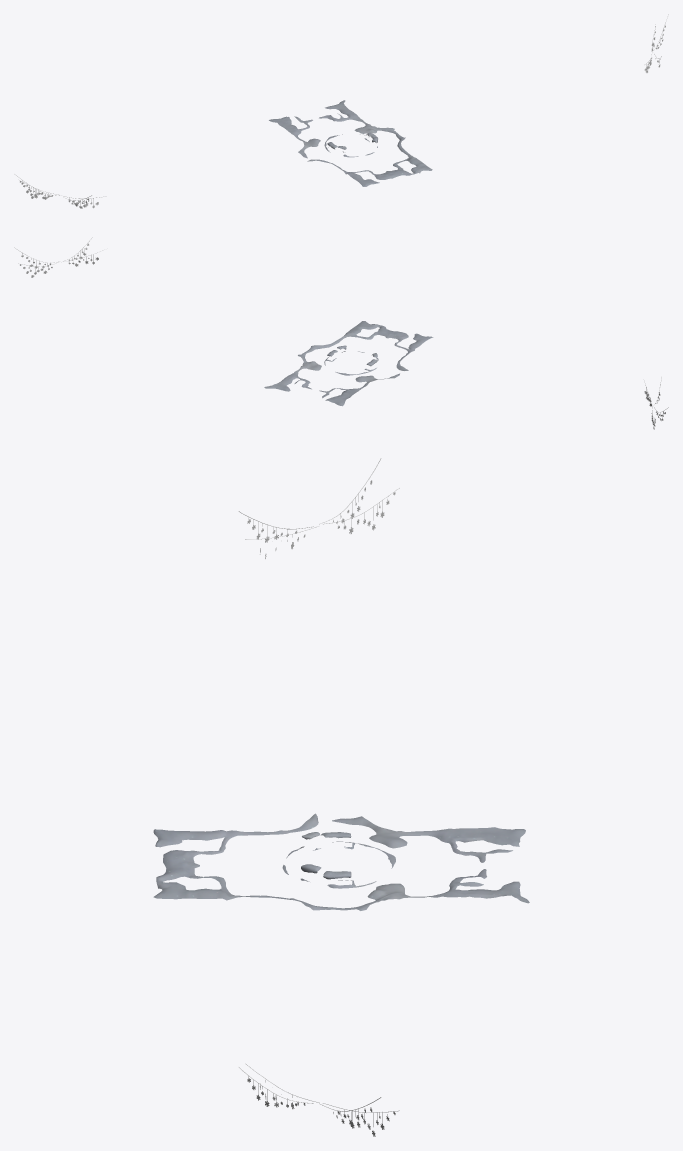
The model's file is pref_Area_Winter_center_snow_lv3.fbx.
3 renders of one model, top to bottom at view 1: azimuth 30°, elevation 25°; view 2: azimuth 150°, elevation 25°; view 3: azimuth 270°, elevation 25°, orthographic. The views are drawn at different scales.
Parts seen in each view (by area): view 1: pref_sm_beach_winter_centersnow_lv3, pref_sm_beach_winter_snowlight_lv3; view 2: pref_sm_beach_winter_centersnow_lv3, pref_sm_beach_winter_snowlight_mirror_lv3; view 3: pref_sm_beach_winter_centersnow_lv3, pref_sm_beach_winter_centersnow02_lv3.
Boxes of the visible parts, x1,y1,x2,y2 form: pref_sm_beach_winter_centersnow_lv3: [269, 100, 432, 186]; pref_sm_beach_winter_snowlight_lv3: [14, 174, 105, 208]; pref_sm_beach_winter_centersnow_lv3: [264, 321, 433, 406]; pref_sm_beach_winter_snowlight_mirror_lv3: [14, 237, 103, 277]; pref_sm_beach_winter_centersnow_lv3: [153, 813, 529, 910]; pref_sm_beach_winter_centersnow02_lv3: [282, 832, 395, 888].
Bounding box in the file's own units: 172 × 11.28 × 42.94.
